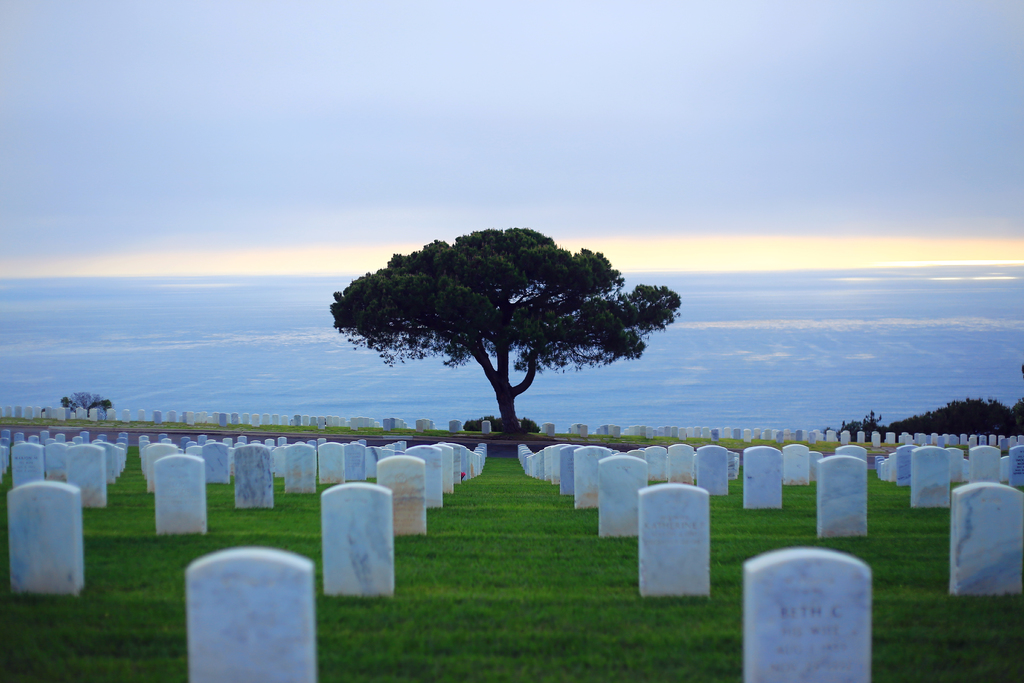Tree: (328, 208, 669, 449), (820, 362, 1023, 440), (53, 388, 112, 422)
